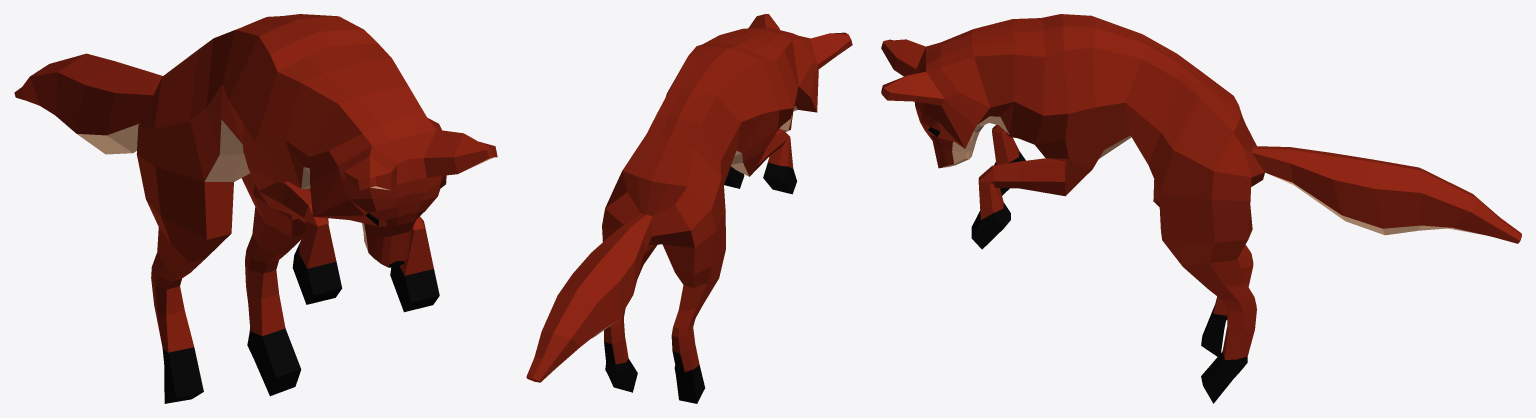
Rendered from fox.glb.
3 views of the same model, side by side, from view 1: azimuth 30°, elevation 25°; view 2: azimuth 150°, elevation 25°; view 3: azimuth 270°, elevation 25° (orthographic). The views are drawn at different scales.
Visible parts, largest first — view 1: fox; view 2: fox; view 3: fox.
Boxes of the visible parts, box(x1,y1,x2,y2) form: fox: box(14, 14, 497, 403); fox: box(526, 14, 852, 403); fox: box(881, 14, 1521, 403).
Size of the model in its own units: 0.2797 by 0.7767 by 1.28.
Materials: 1 (1 with a texture image).
